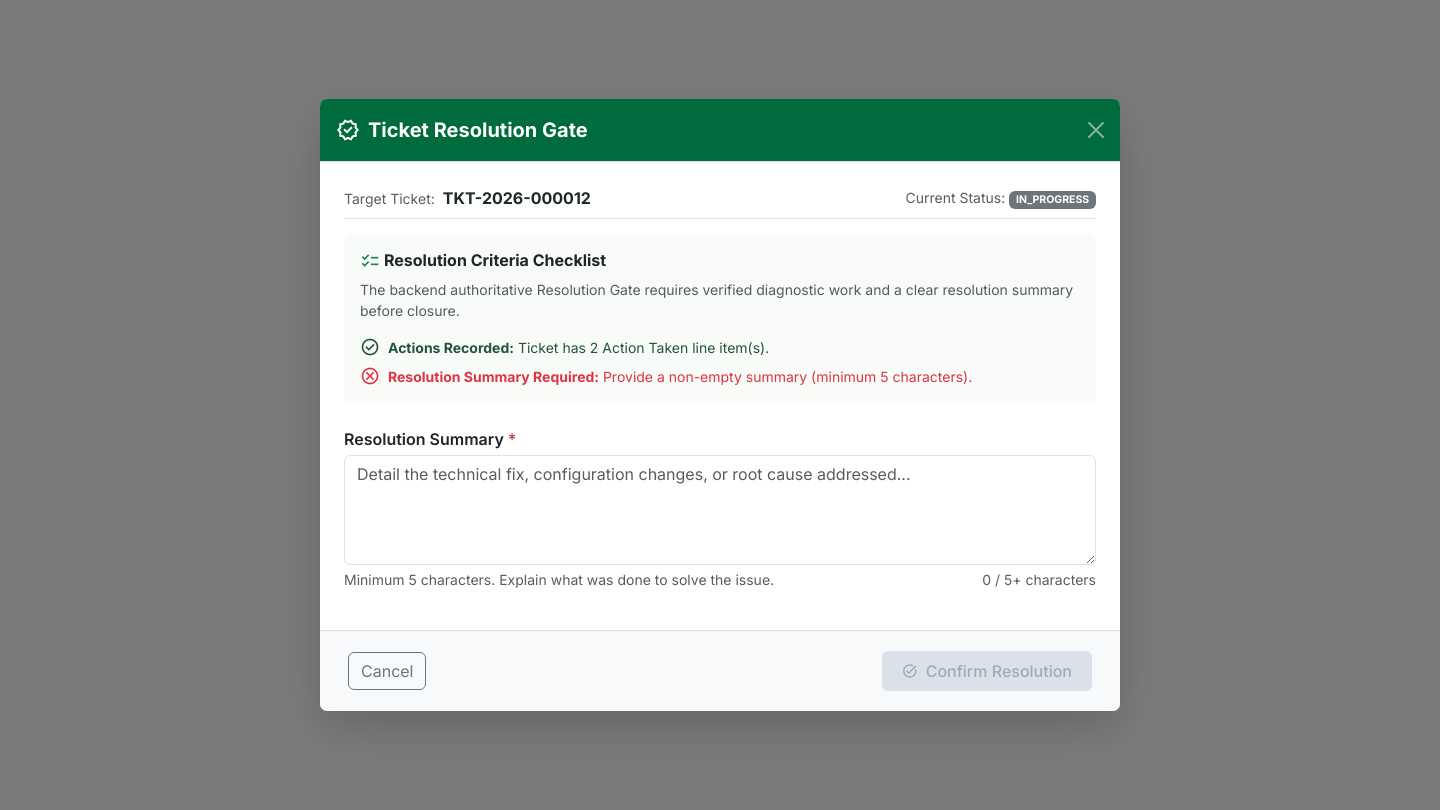
Scenario: Lab 4 Ticket Workflow & Resolution Gate UI Suite (client/tests/lab-04/TicketWorkflow.test.tsx) › ResolutionGateModal (UI-05, AC-07, AC-08, AC-09) › satisfies actions item when actionsCount >= 1 and enables confirm button once summary is >= 5 chars
Expected: the list item with test id "gate-checklist-actions" shows "Actions Recorded: Ticket has 2 Action Taken line item(s)", left=360, top=335, right=769, bottom=359
Expected: the button with test id "confirm-resolution-btn" is disabled, left=882, top=651, right=1092, bottom=691
# Enter 4 chars (too short)
Replace the text in the text box with test id "resolution-summary-input" with "Done". click: (720, 510)
box: left=344, top=455, right=1096, bottom=565
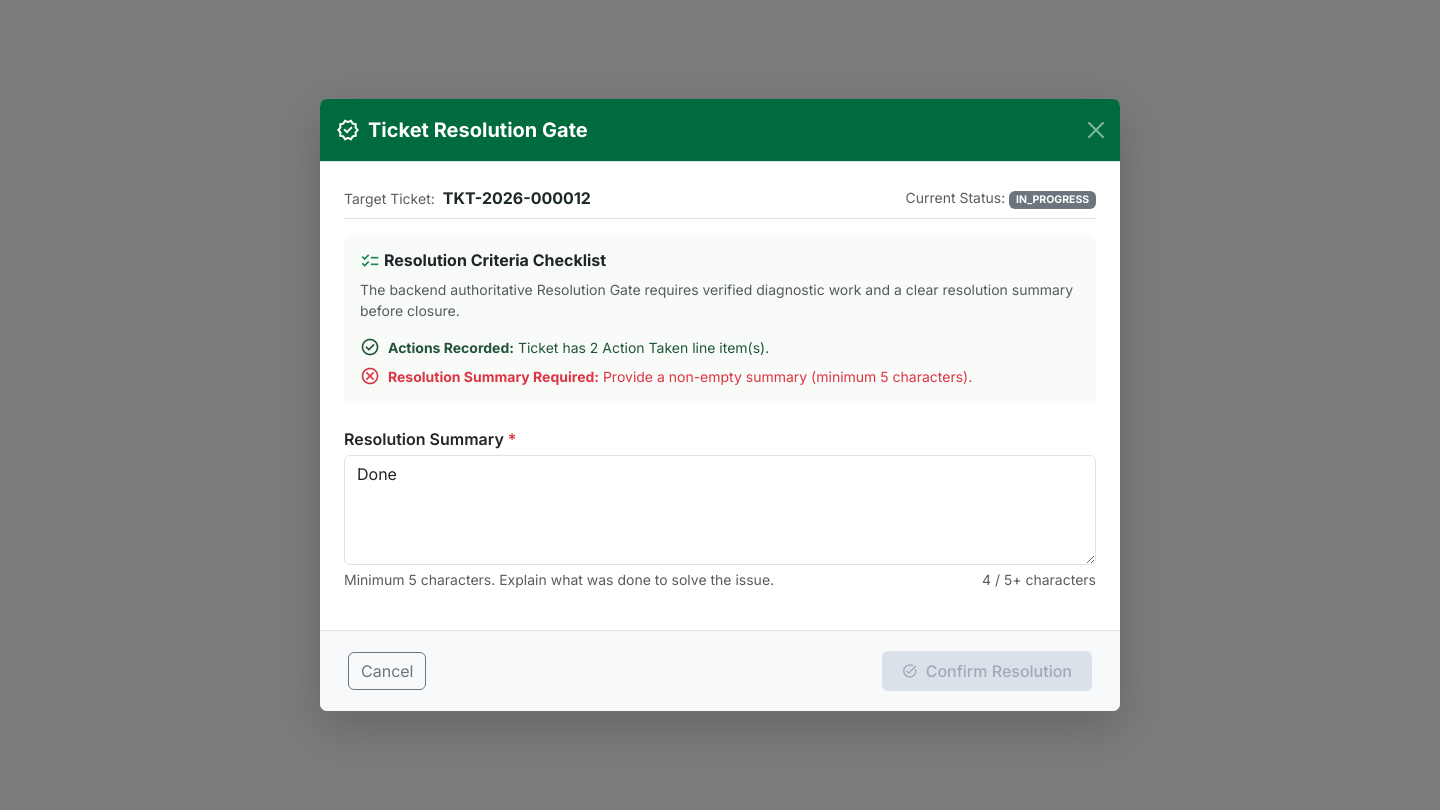
Expected: the button with test id "confirm-resolution-btn" is disabled, left=882, top=651, right=1092, bottom=691
Replace the text in the text box with test id "resolution-summary-input" with "Replaced battery cell and verified voltage.". click: (720, 510)
box: left=344, top=455, right=1096, bottom=565
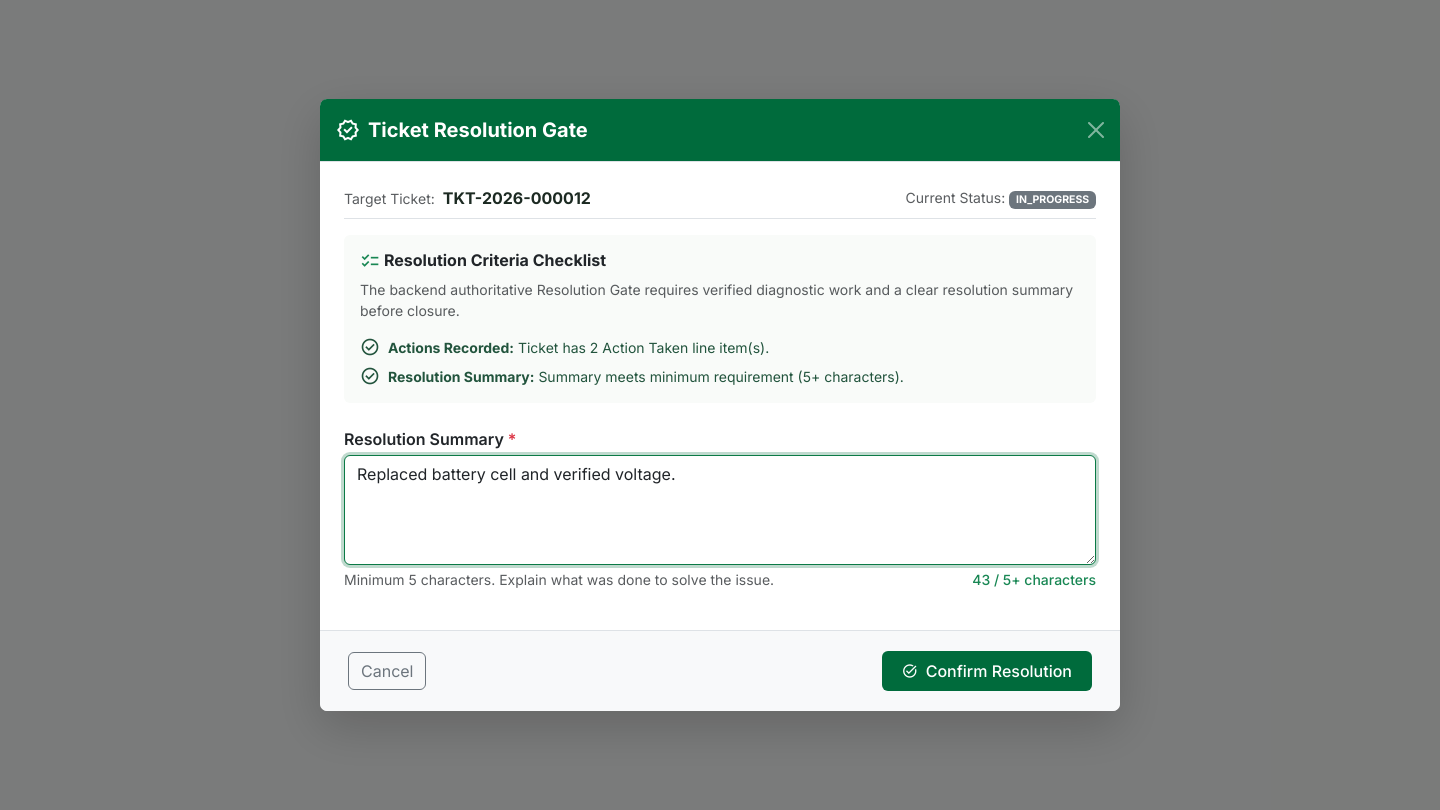
Now the button with test id "confirm-resolution-btn" is enabled, box left=882, top=651, right=1092, bottom=691
Now the list item with test id "gate-checklist-summary" shows "Summary meets minimum requirement", box left=534, top=368, right=904, bottom=385
